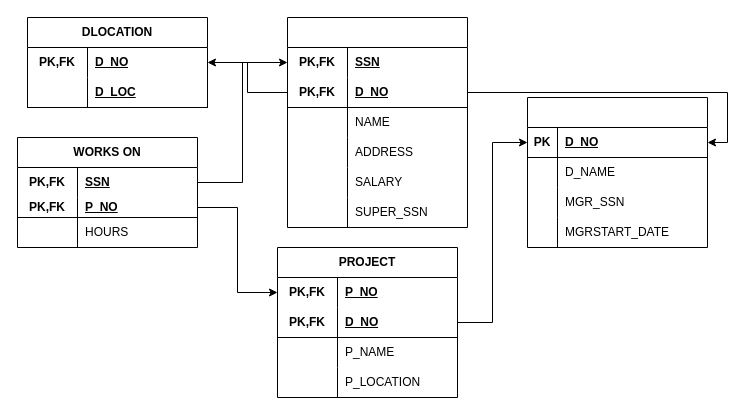
The diagram is 753 pixels wide and 415 high, and some of its shapes have lost their labels. The shapes that lost their labels are listed below. From the top down, each one's box as (x1, y1, x2, y2) in pixels, then its label:
(286, 16, 468, 228): EMPLOYEE
(526, 96, 708, 248): DEPARTMENT
